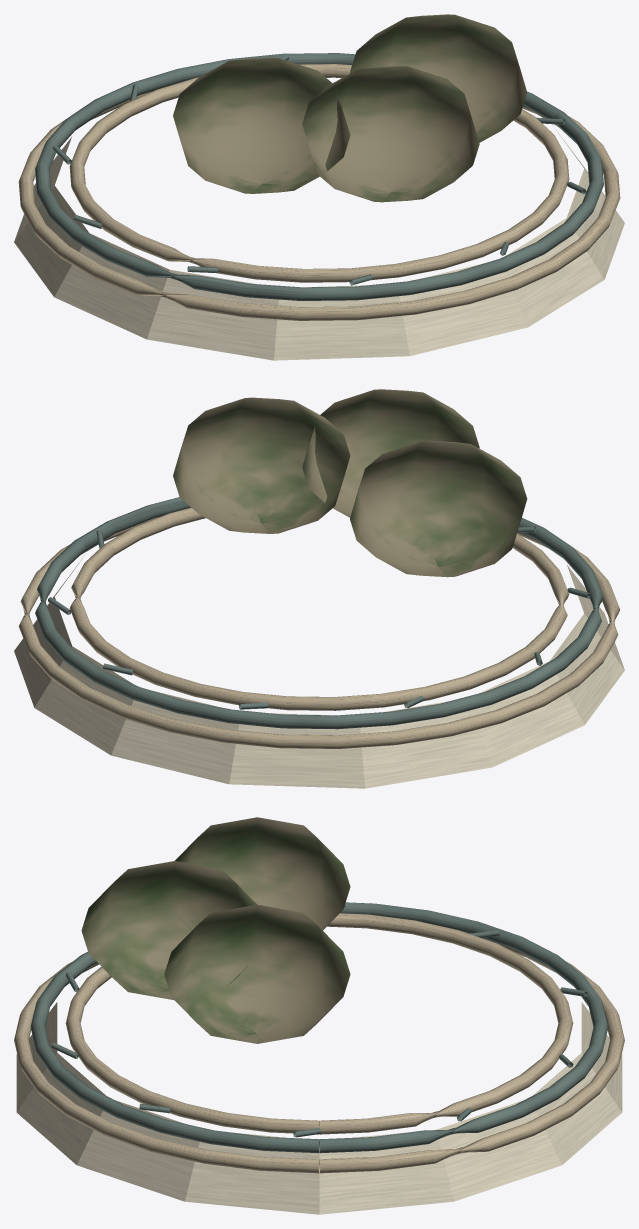
Rendered from offering_plate.glb.
3 views of the same model, one above another, from view 1: azimuth 30°, elevation 25°; view 2: azimuth 150°, elevation 25°; view 3: azimuth 270°, elevation 25° (orthographic).
Parts seen in each view (by area): view 1: Plate, Art_Parchment, Bun2, Bun0, Art_FadedIndigo, Bun1; view 2: Plate, Art_Parchment, Bun0, Bun1, Art_FadedIndigo, Bun2; view 3: Plate, Art_Parchment, Bun1, Art_FadedIndigo, Bun2, Bun0.
Part boxes in pixels (<box>): Plate: <box>14,125,624,360</box>; Art_Parchment: <box>18,64,620,320</box>; Bun2: <box>302,66,479,202</box>; Bun0: <box>173,57,350,193</box>; Art_FadedIndigo: <box>35,53,603,300</box>; Bun1: <box>350,14,527,142</box>; Plate: <box>14,555,624,788</box>; Art_Parchment: <box>18,507,620,748</box>; Bun0: <box>350,440,527,577</box>; Bun1: <box>173,397,350,533</box>; Art_FadedIndigo: <box>35,497,603,729</box>; Bun2: <box>302,389,479,517</box>; Plate: <box>16,1002,622,1214</box>; Art_Parchment: <box>14,913,624,1173</box>; Bun1: <box>164,904,350,1043</box>; Art_FadedIndigo: <box>30,902,608,1153</box>; Bun2: <box>81,861,256,999</box>; Bun0: <box>175,817,350,930</box>.
Bounding box in the file's own units: 0.3 × 0.113 × 0.2952.
Materials: 4 (4 with a texture image).
